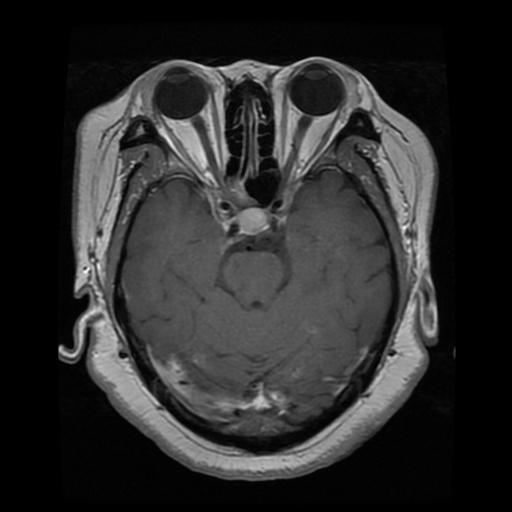pituitary: (236, 210, 268, 233)
